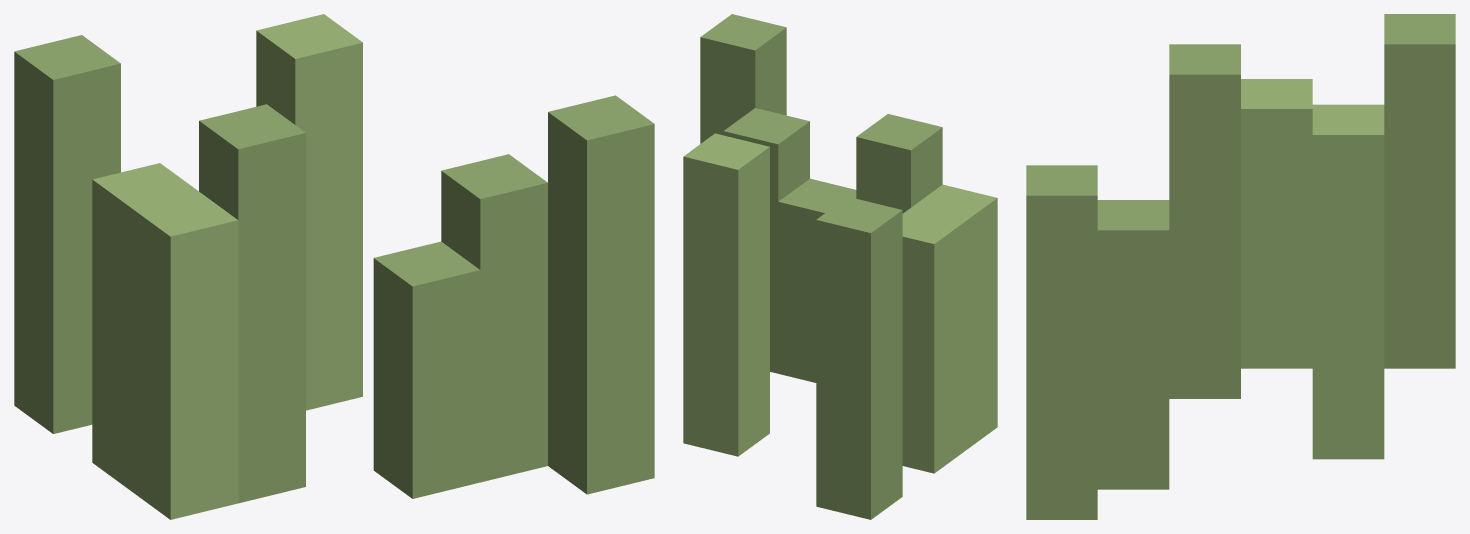
The model's file is hierba_alta_04.glb.
3 renders of one model, left to right at view 1: azimuth 30°, elevation 25°; view 2: azimuth 150°, elevation 25°; view 3: azimuth 270°, elevation 25°, orthographic. The views are drawn at different scales.
Visible parts, largest first — view 1: hierba_alta_04; view 2: hierba_alta_04; view 3: hierba_alta_04.
Boxes of the visible parts, x1,y1,x2,y2 form: hierba_alta_04: (14,14,654,519); hierba_alta_04: (683,14,997,519); hierba_alta_04: (1026,14,1455,519).
Bounding box in the file's own units: 0.6 × 0.5 × 0.6.
